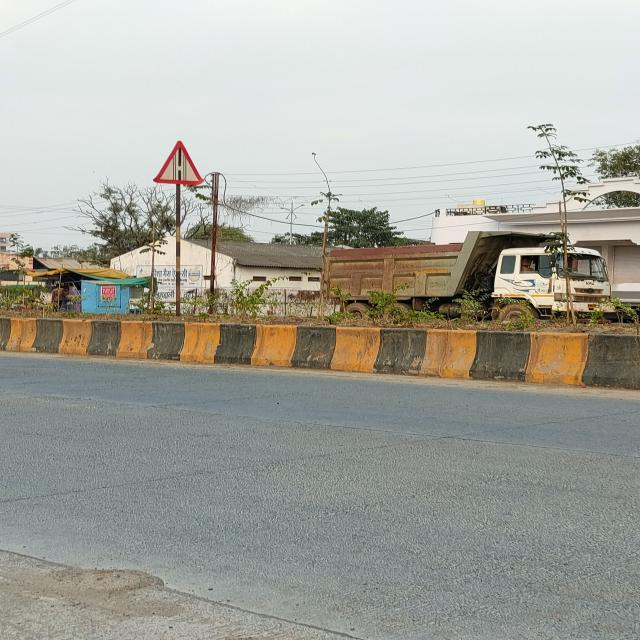gap in median: (151, 136, 207, 191)
